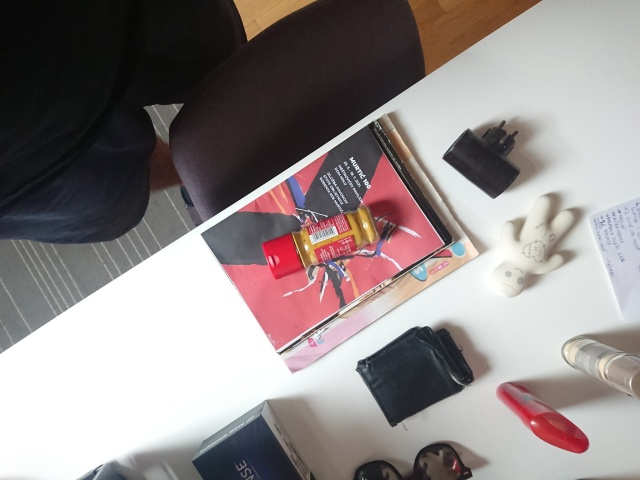Kotanyi Curry Spices Mix 70g: (259, 202, 383, 282)
